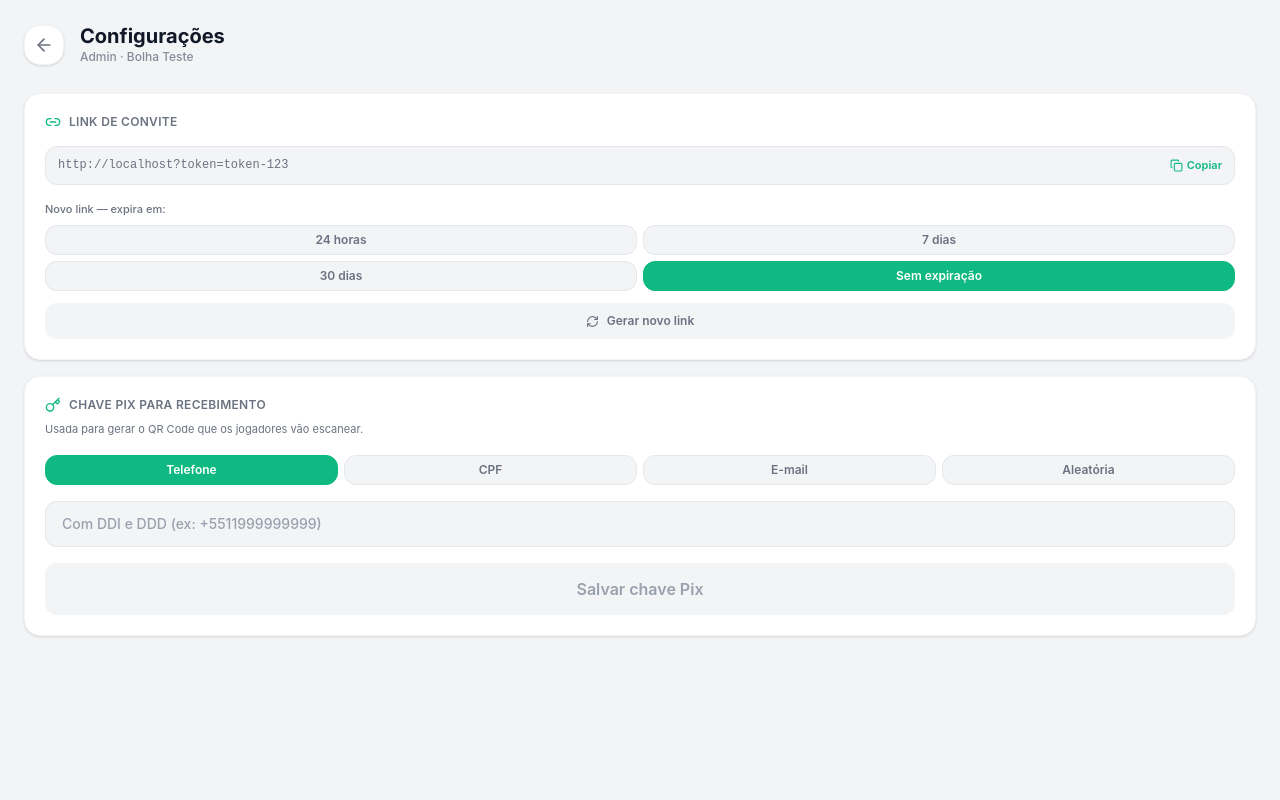
Test case: AdminSettings Component › handles PIX key save error
The image size is (1280, 800).
Type "+5511999999999" into the field with placeholder "Com DDI e DDD (ex: +5511999999999)".
click(640, 524); type("+5511999999999")  # box [45,501,1235,547]
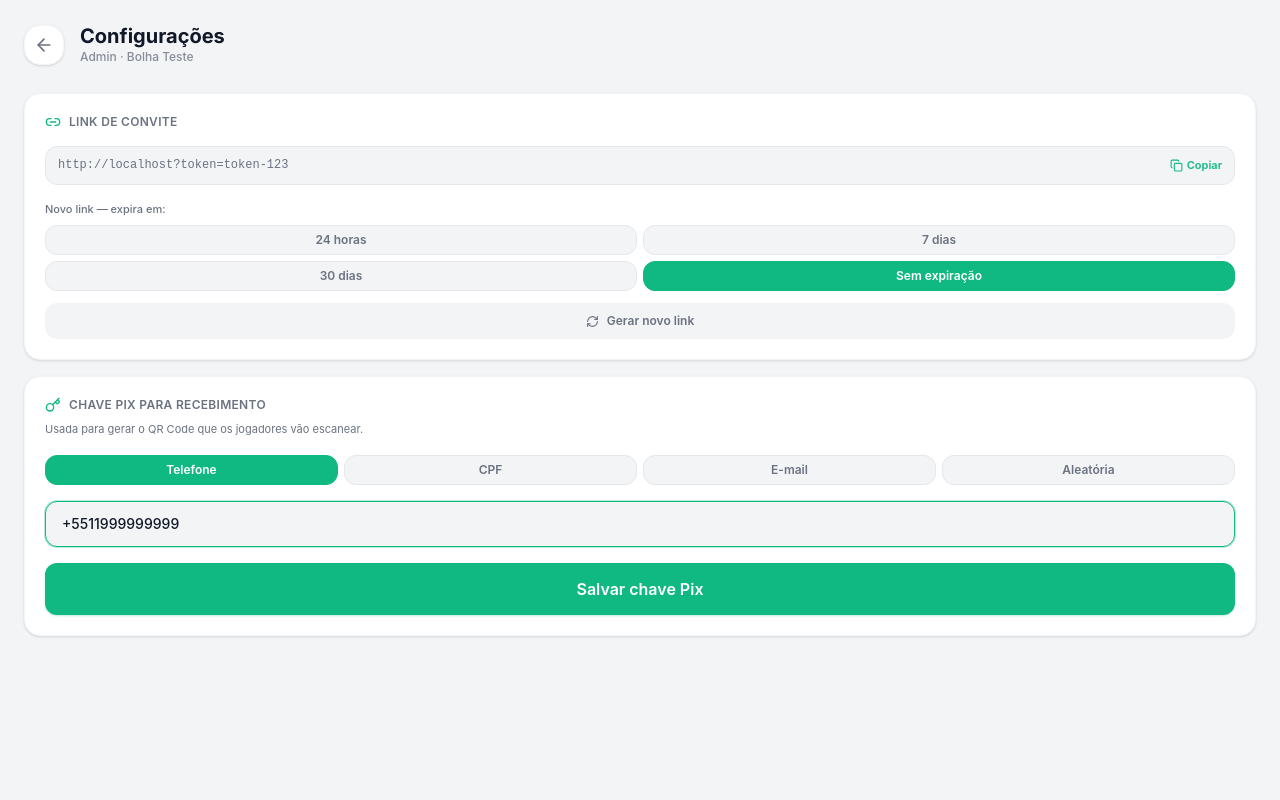
Click the button "Salvar chave Pix".
click(640, 589)  # box [45,563,1235,615]
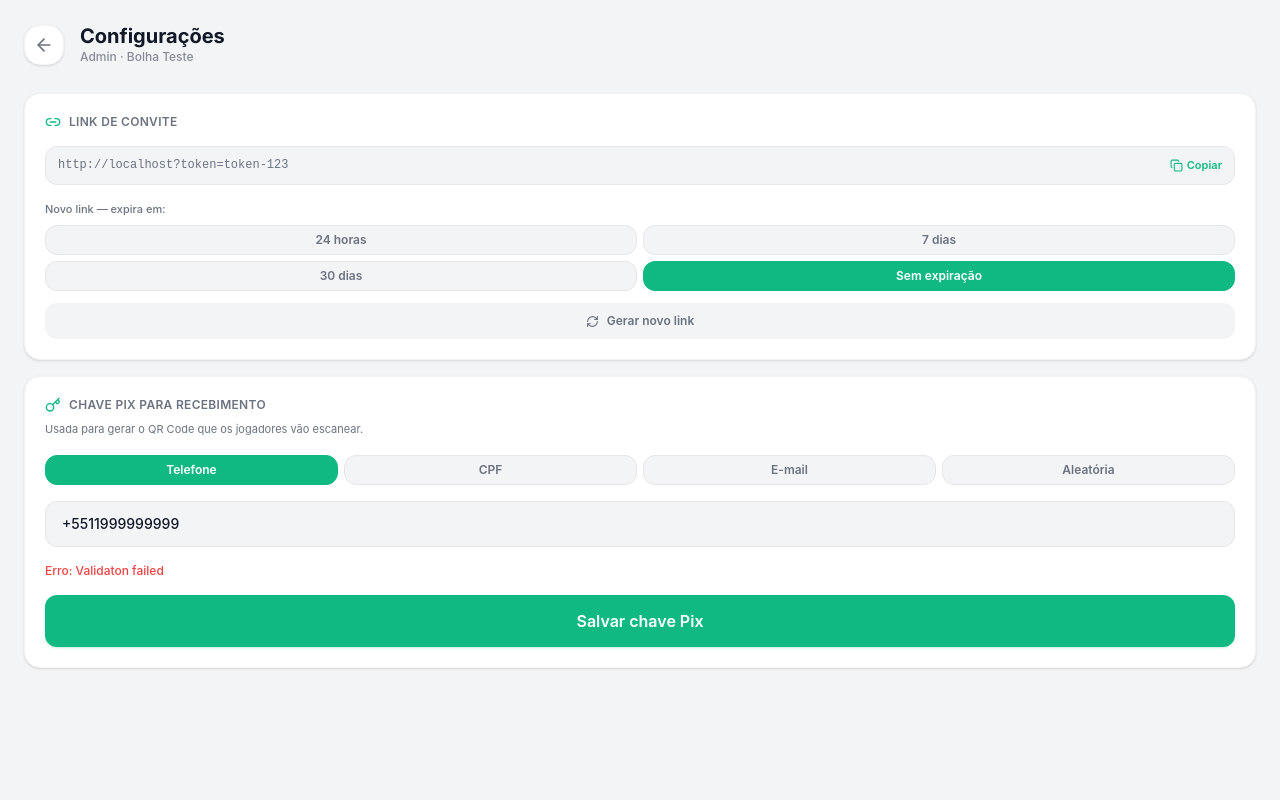
expect the text "Erro: Validaton failed" is shown: met, box [45,563,164,578]
